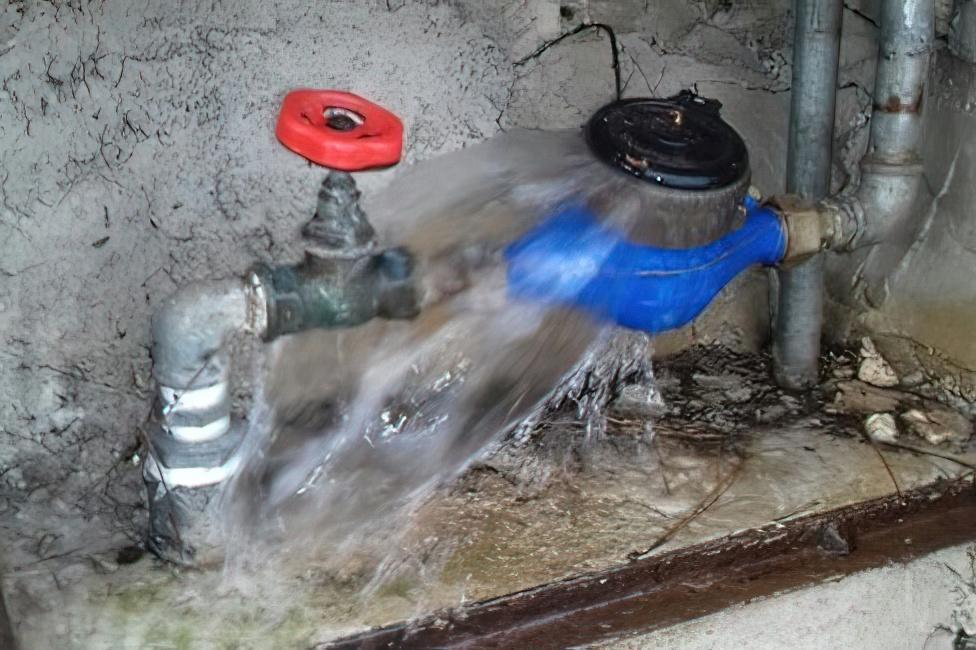pipe burst: (179, 114, 699, 598)
